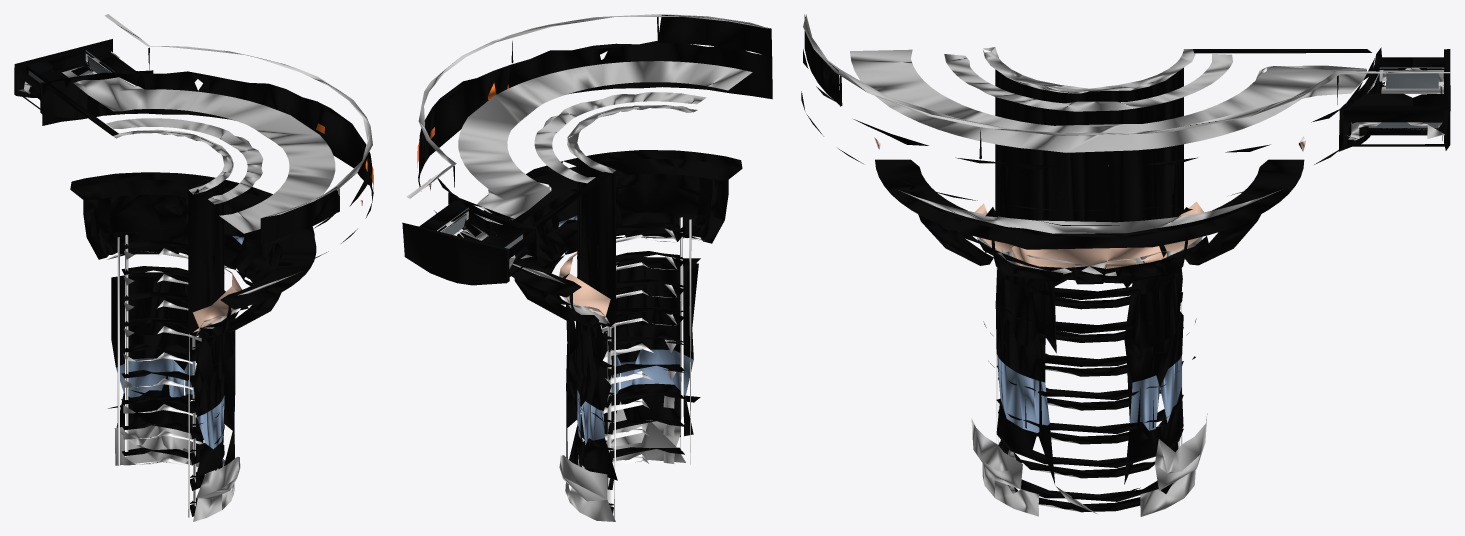
File: hangar_business_v2_elevator_shaft_top_01R.glb
3 views of the same model, side by side, from view 1: azimuth 30°, elevation 25°; view 2: azimuth 150°, elevation 25°; view 3: azimuth 270°, elevation 25° (orthographic). The views are drawn at different scales.
Bounding box in the file's own units: 8.11 × 14.29 × 18.01.
